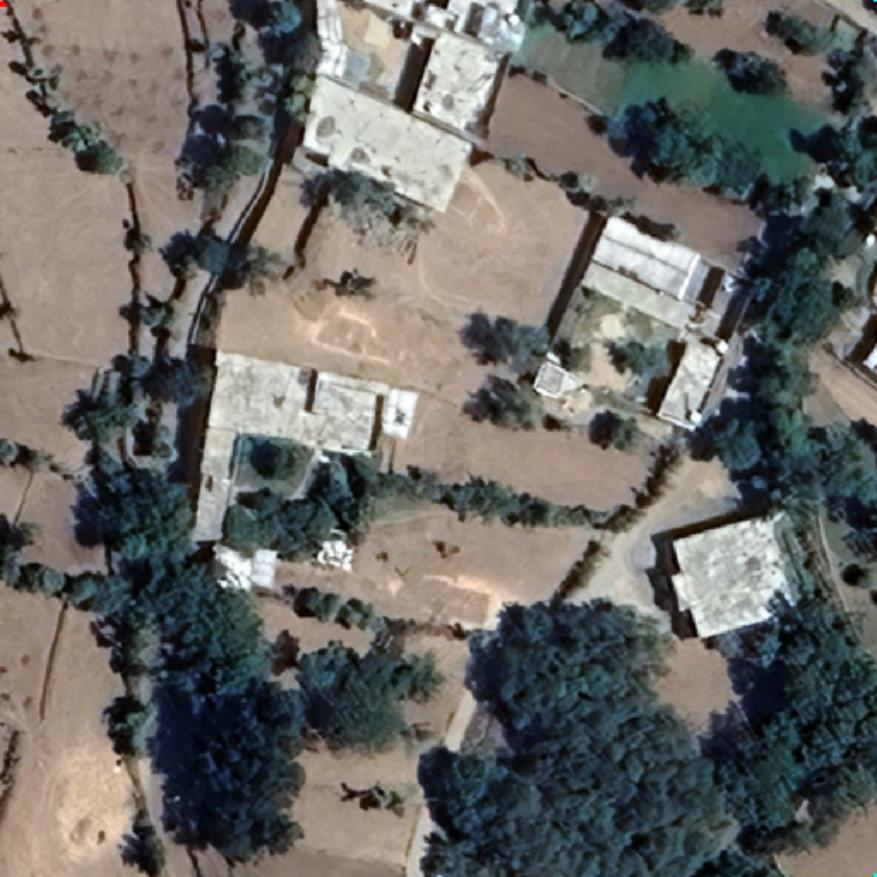Solarpanel: (462, 0, 488, 40)
